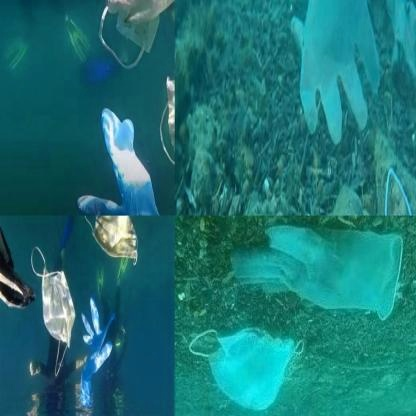Mask: (188, 327, 306, 414), (31, 244, 76, 378), (98, 0, 174, 70), (85, 216, 138, 270), (160, 76, 174, 165)
glove: (231, 225, 405, 320), (291, 0, 375, 153), (75, 110, 157, 215), (78, 297, 118, 410), (384, 0, 416, 128)
